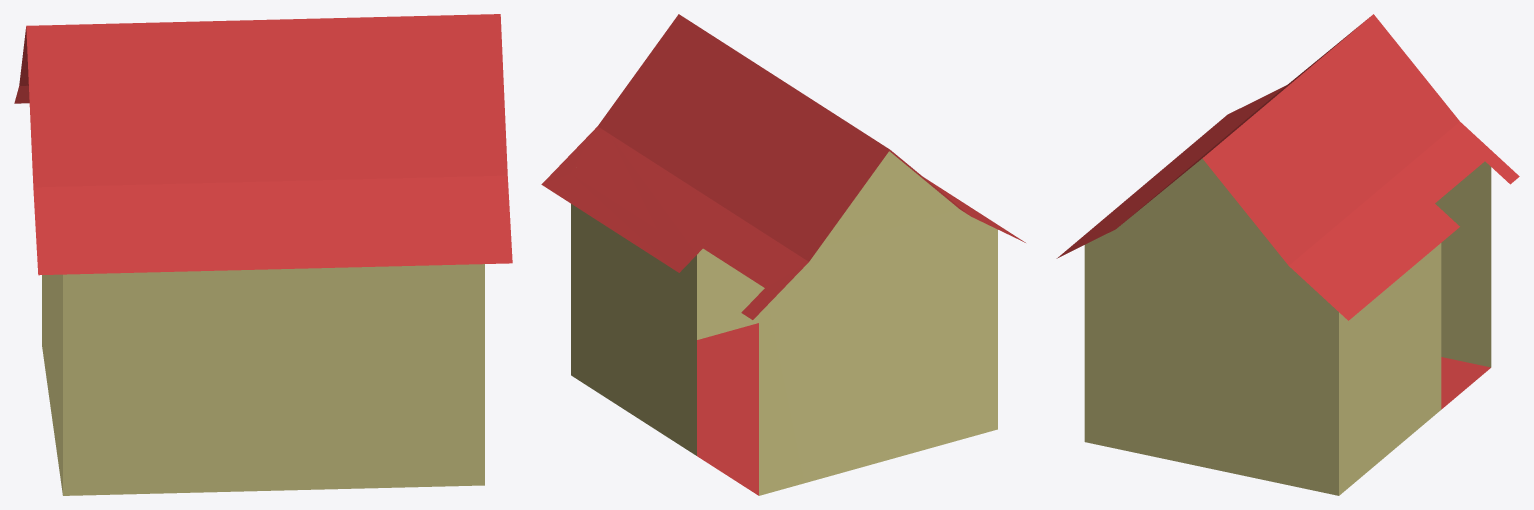
The picture shows the model from 3 angles, left to right: view 1: azimuth 30°, elevation 25°; view 2: azimuth 150°, elevation 25°; view 3: azimuth 270°, elevation 25°; orthographic projection. The views are drawn at different scales.
Bounding box in the file's own units: 17.29 × 16.42 × 12.45.
